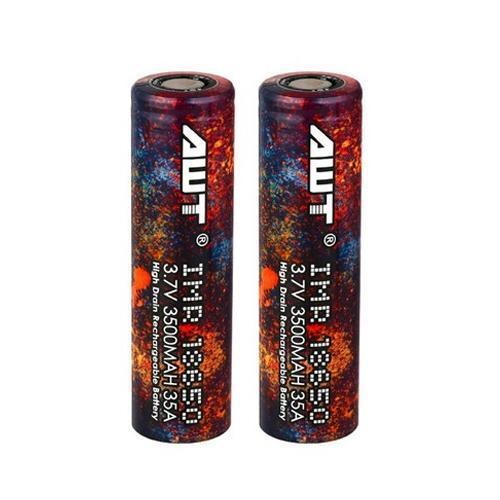Battery: (251, 64, 365, 447), (125, 63, 238, 446)
